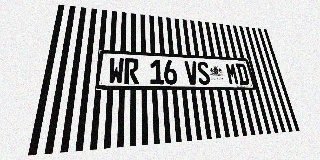1: (150, 59, 164, 84)
6: (163, 60, 178, 84)
D: (235, 63, 250, 85)
M: (225, 63, 240, 85)
R: (124, 58, 139, 84)
S: (196, 61, 211, 85)
V: (184, 61, 199, 85)
W: (108, 57, 124, 84)
